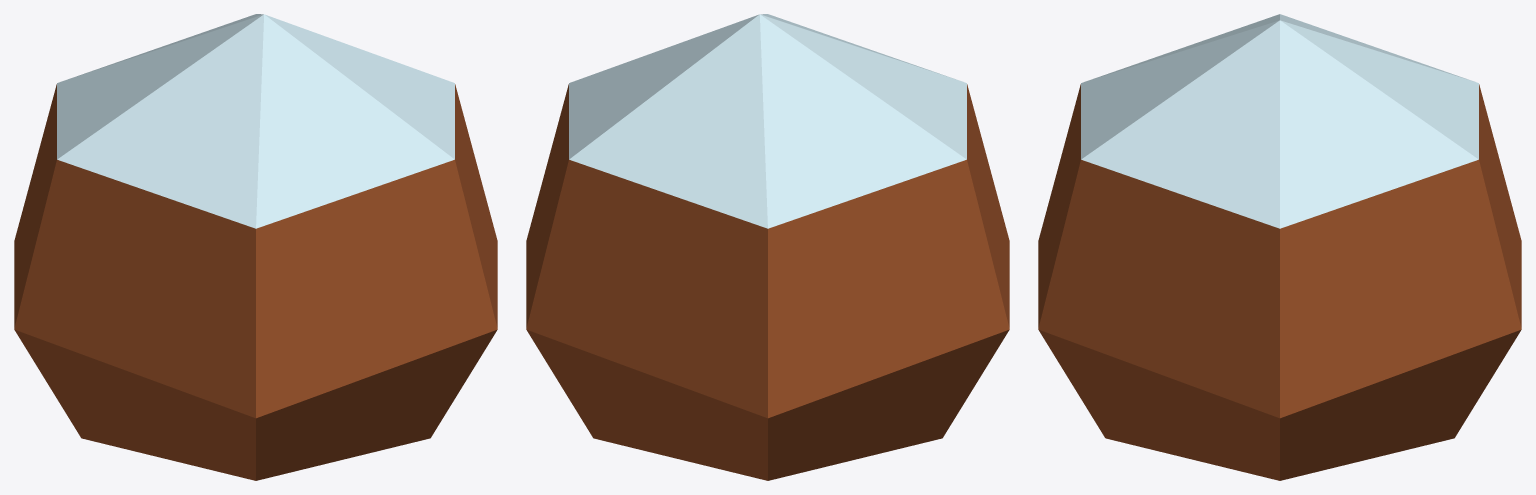
Rendered from SM_Env_Generic_Bush_01_Snow.fbx.
3 views of the same model, side by side, from view 1: azimuth 30°, elevation 25°; view 2: azimuth 150°, elevation 25°; view 3: azimuth 270°, elevation 25° (orthographic).
Parts seen in each view (by area): view 1: SM_Env_Generic_Bush_01_Snow; view 2: SM_Env_Generic_Bush_01_Snow; view 3: SM_Env_Generic_Bush_01_Snow.
Part boxes in pixels (x1,y1,x2,y2): SM_Env_Generic_Bush_01_Snow: (14,14,497,480); SM_Env_Generic_Bush_01_Snow: (526,14,1009,480); SM_Env_Generic_Bush_01_Snow: (1038,14,1521,480).
Size of the model in its own units: 32.36 by 27.21 by 28.03.
1 material, 1 textured.
